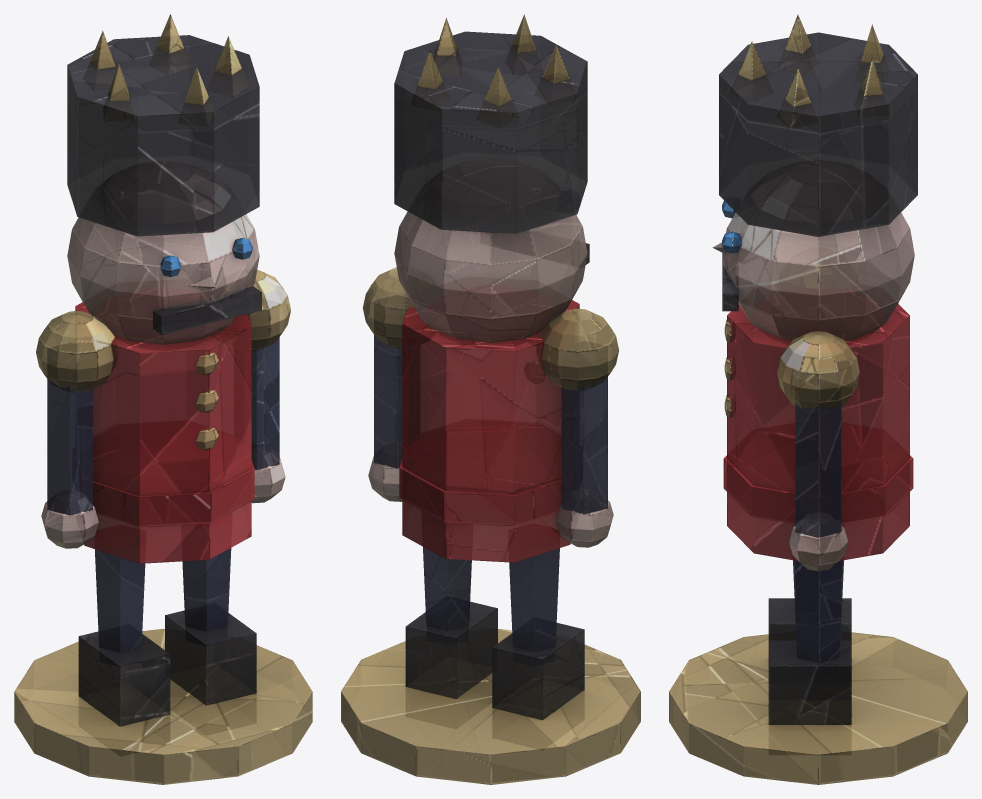
File: MD_ningixyou.fbx
3 views of the same model, side by side, from view 1: azimuth 30°, elevation 25°; view 2: azimuth 150°, elevation 25°; view 3: azimuth 270°, elevation 25° (orthographic).
Visible parts, largest first — view 1: NC_Base; view 2: NC_Base; view 3: NC_Base.
Boxes of the visible parts, <box> form: NC_Base: <box>14,14,312,784</box>; NC_Base: <box>341,14,640,784</box>; NC_Base: <box>669,14,967,784</box>.
Bounding box in the file's own units: 42.19 × 106 × 42.19.
